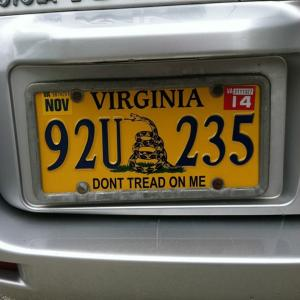Vehicle-registration-plate: (35, 83, 261, 194)
